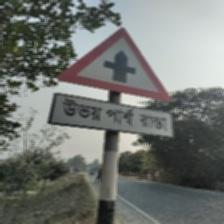Crossroad: (50, 26, 175, 140)
